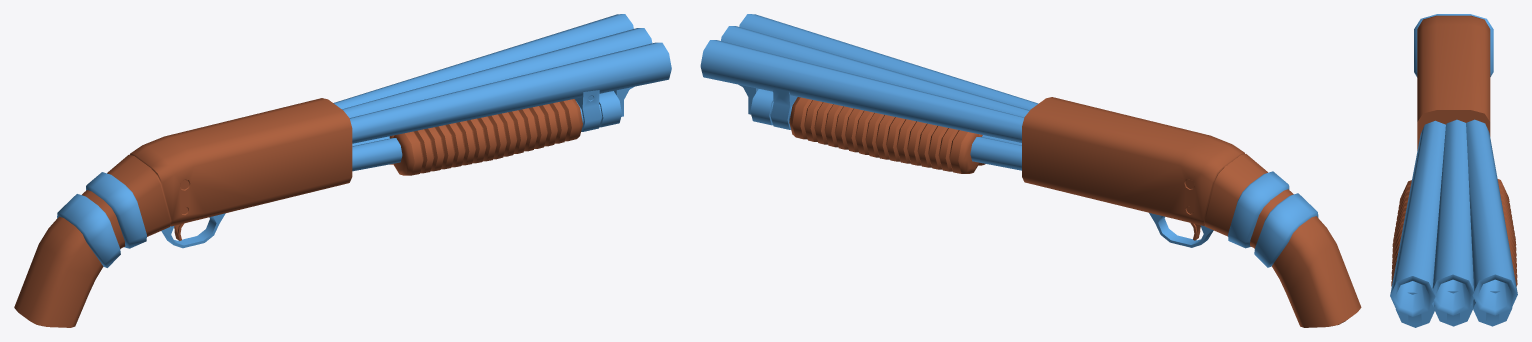
File: shotgun v2 .fbx
The picture shows the model from 3 angles, left to right: view 1: azimuth 30°, elevation 25°; view 2: azimuth 150°, elevation 25°; view 3: azimuth 270°, elevation 25°; orthographic projection. The views are drawn at different scales.
Parts seen in each view (by area): view 1: sawn off shotgun; view 2: sawn off shotgun; view 3: sawn off shotgun.
Part boxes in pixels (box(x1,y1,x2,y2)): sawn off shotgun: box(14, 14, 671, 327); sawn off shotgun: box(700, 14, 1361, 327); sawn off shotgun: box(1390, 14, 1517, 327).
Bounding box in the file's own units: 172 × 39.74 × 27.63.
